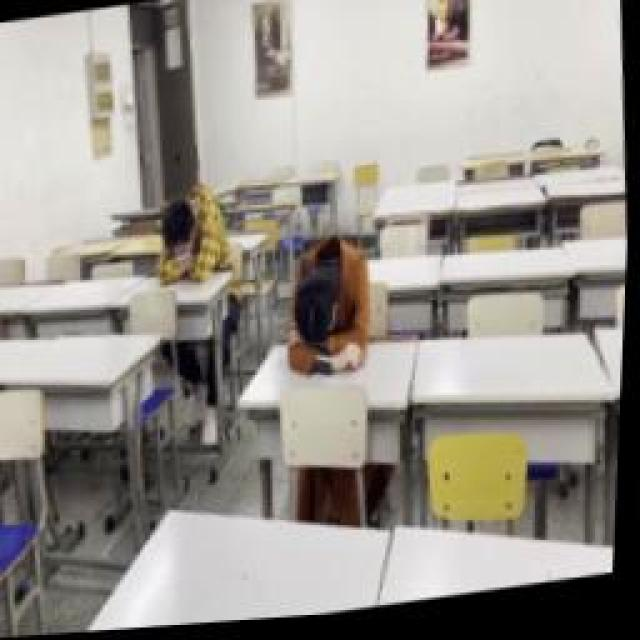sleep: (280, 235, 378, 380), (150, 185, 235, 290)
